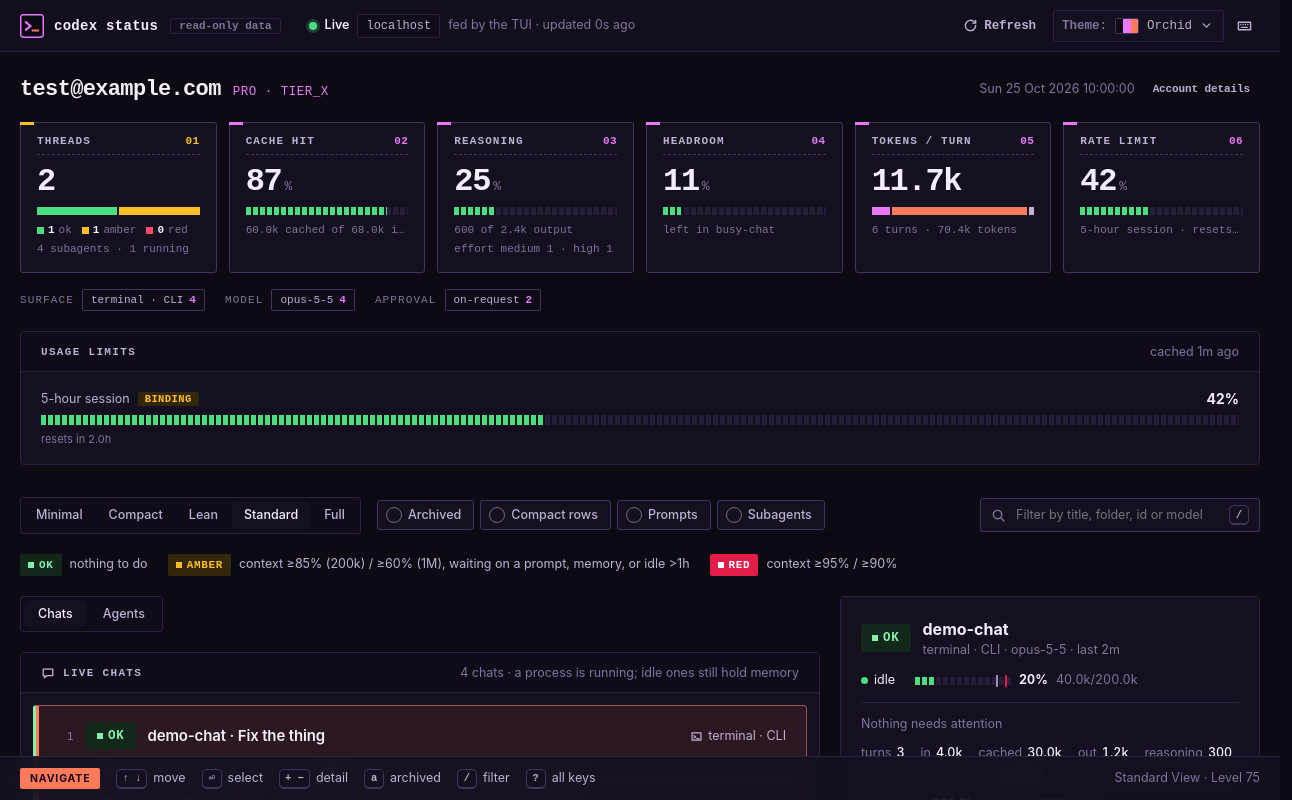
Test: agents view › clicking the Threads tile (and Enter) shows the agents view in place of the chat list
Click the button with aria-label "Open the Agents view" at (118, 198), box [20,122,217,274]
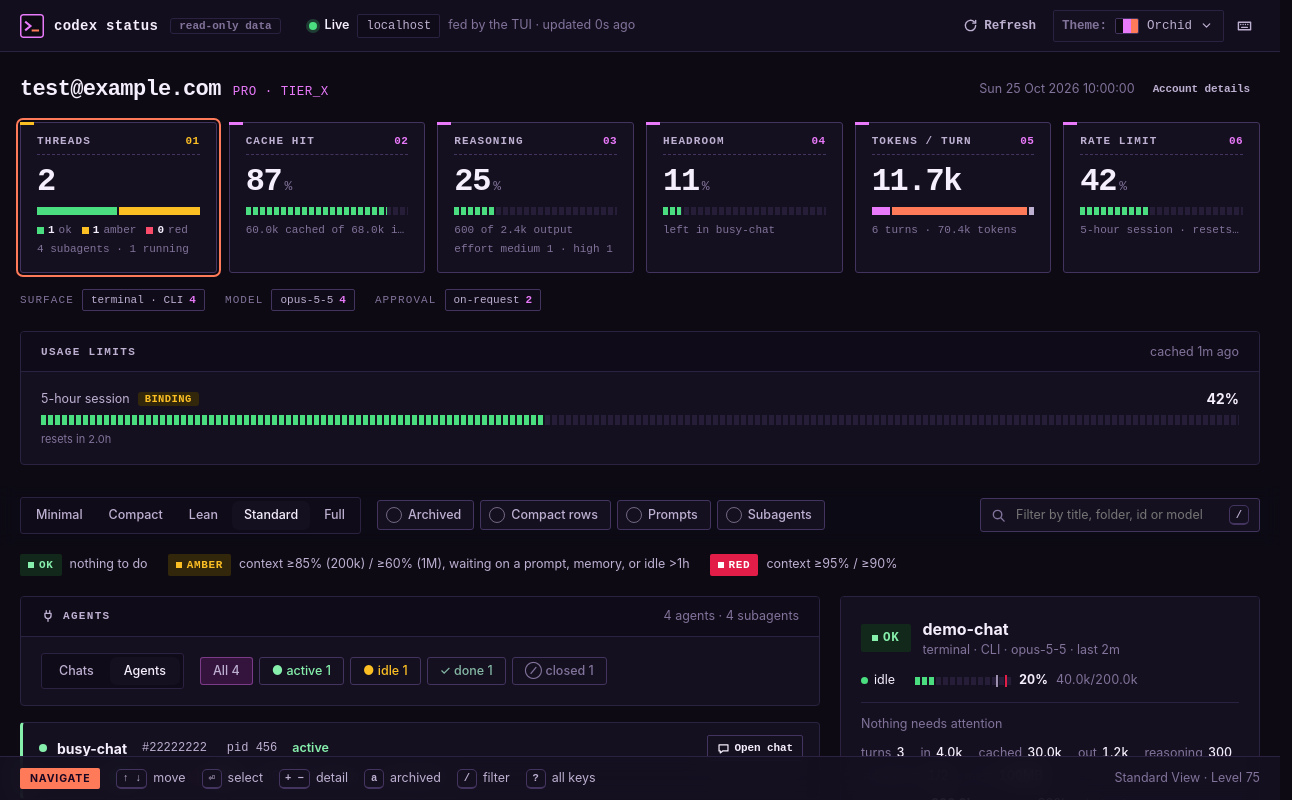
Expected: the heading "demo-chat · Fix the thing" is gone
Click the radio button labelled "Chats" at (76, 671), box [45,657,108,686]
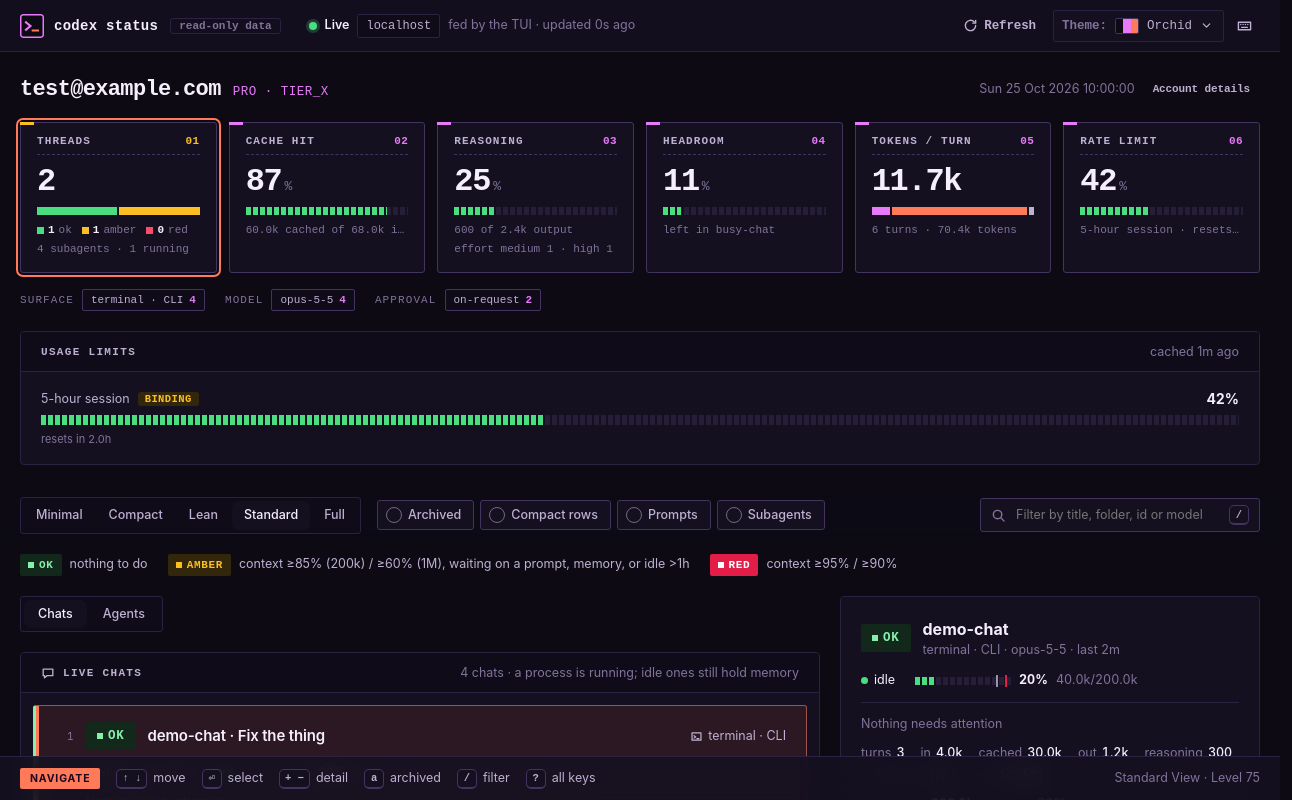
Press Enter
(page scrolled)
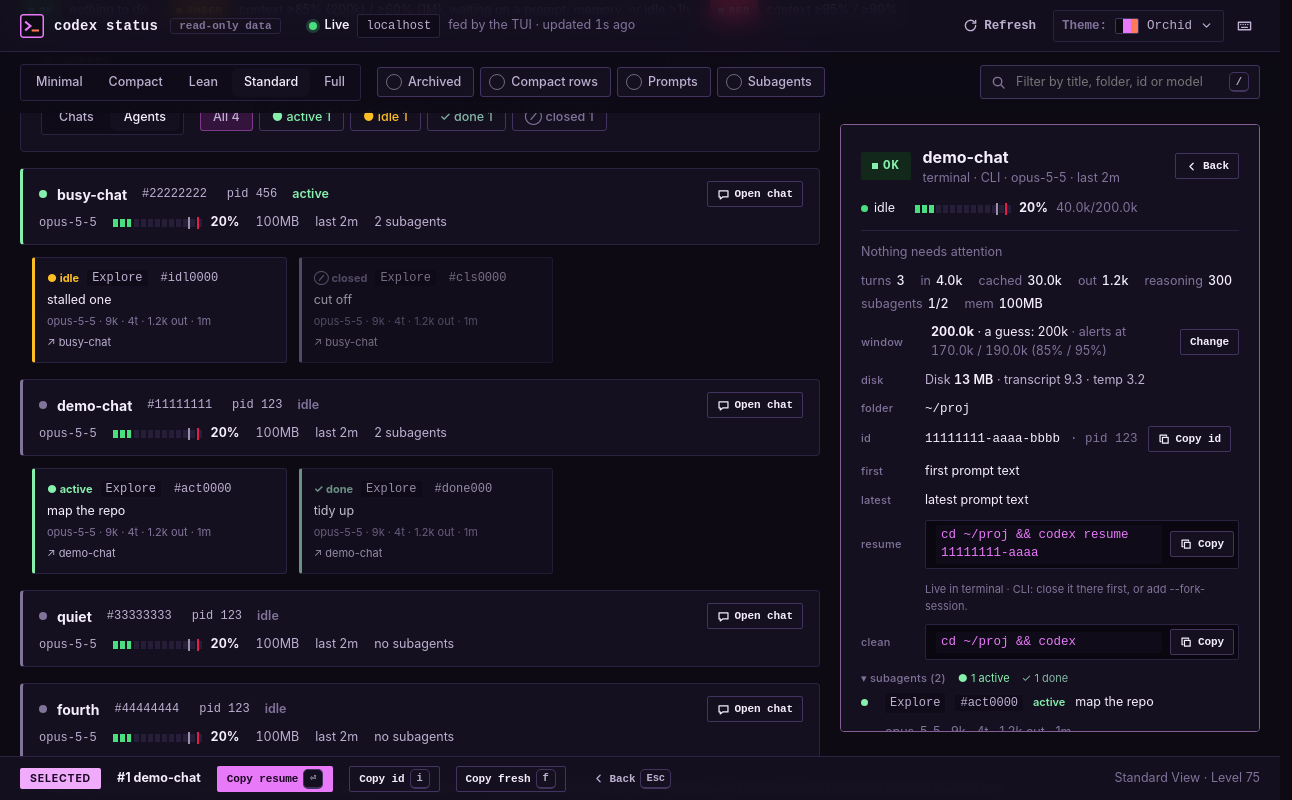
Expected: the element "Agents" is shown, [20,42,820,760]
